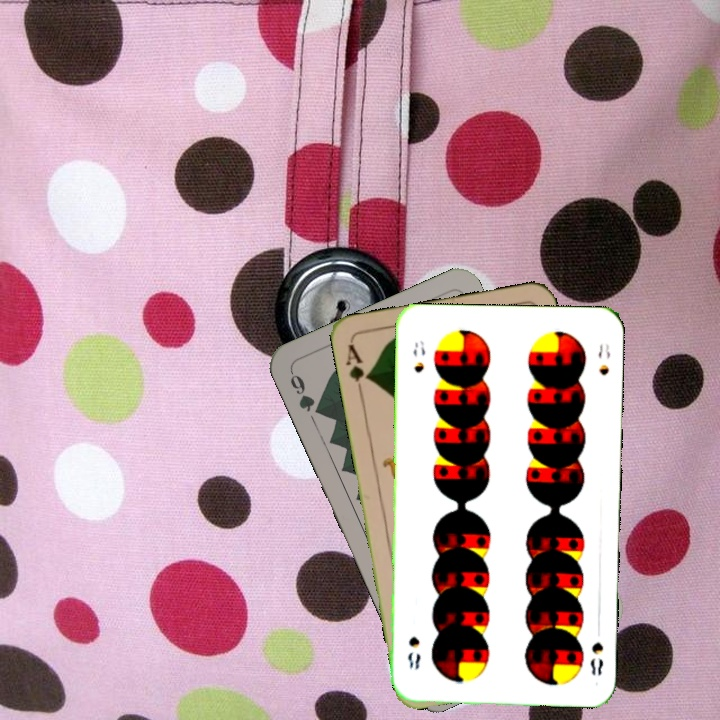G9: (286, 367, 326, 419)
GA: (342, 340, 373, 398)
S8: (586, 638, 606, 678), (409, 337, 428, 376)
